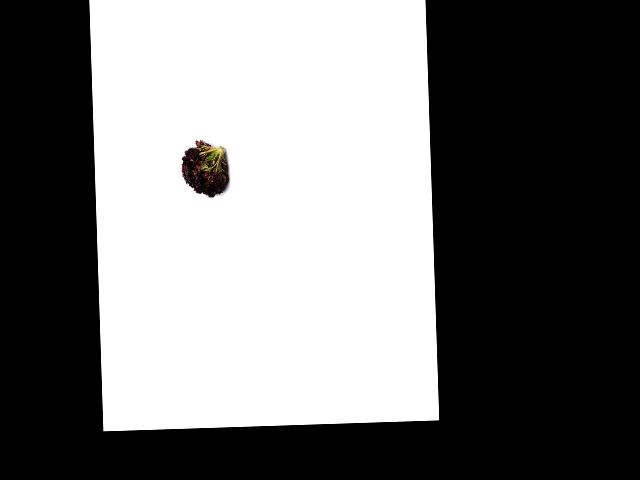lettuce: (179, 142, 232, 200)
